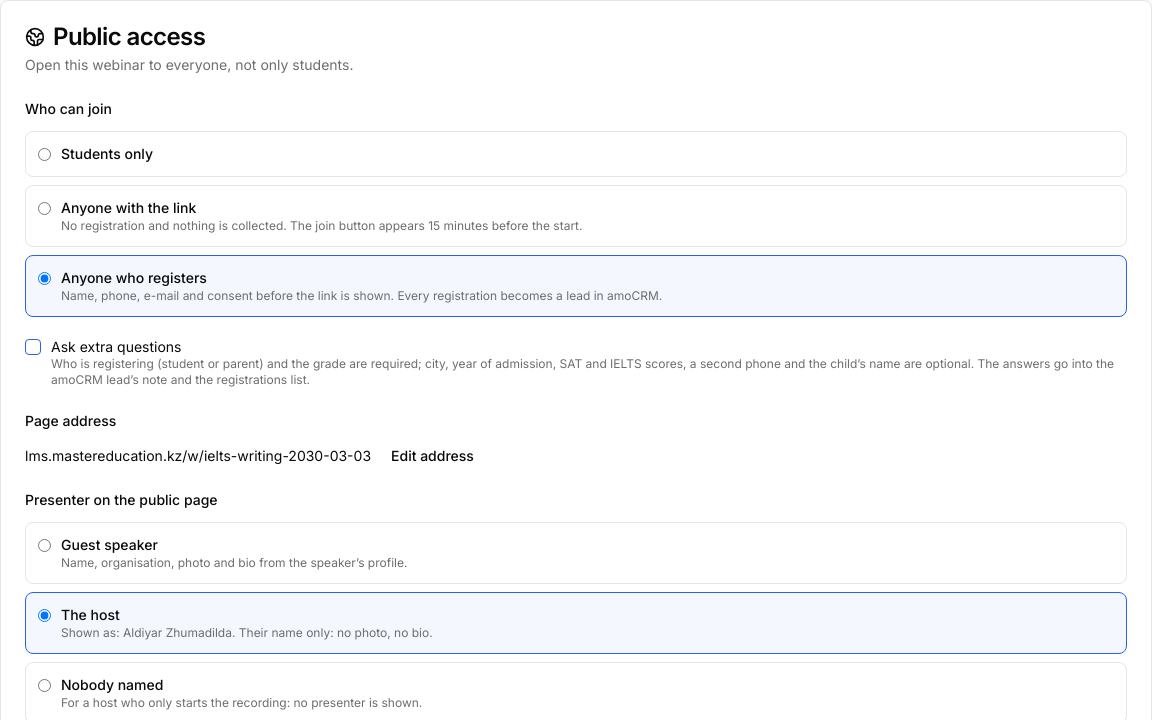
Test: closing public access › closes it when set back to students only
The width and height of the screenshot is (1152, 720).
What coordinates should you click on to do the following:
click the radio button labelled "Students only"
I would click on:
 (44, 154)
Its box is [38,148,51,161].
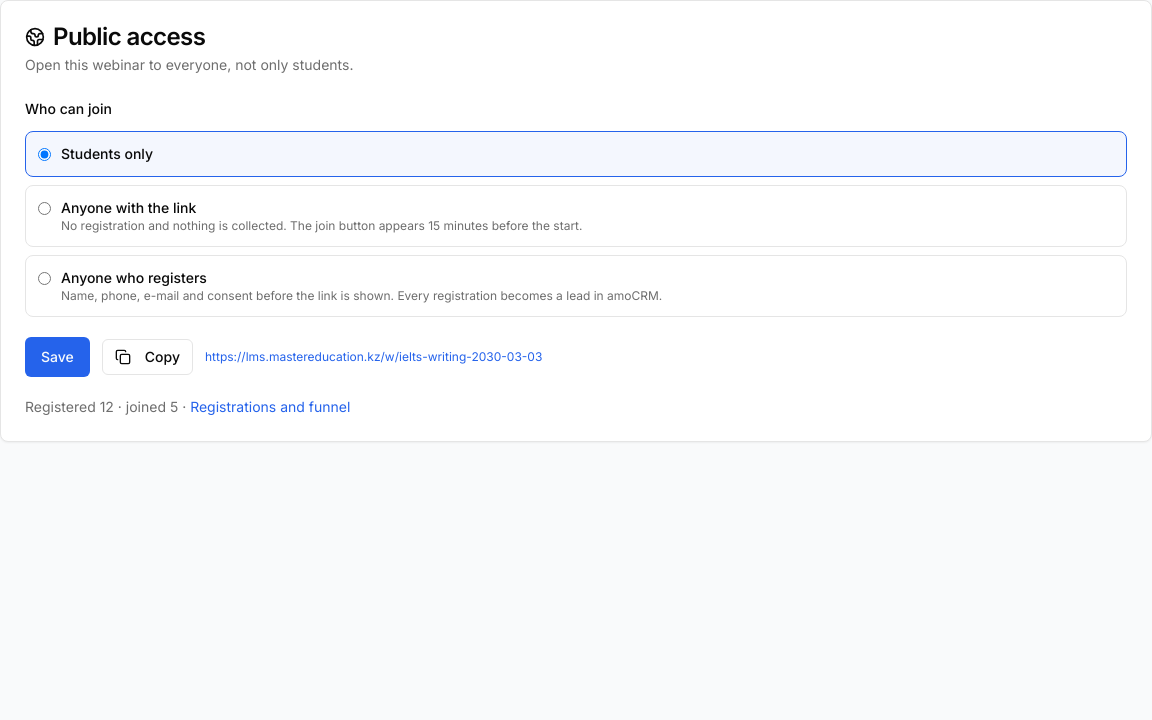
What coordinates should you click on to do the following:
click the button "Save"
I would click on:
 (57, 357)
Its box is [25,337,90,377].
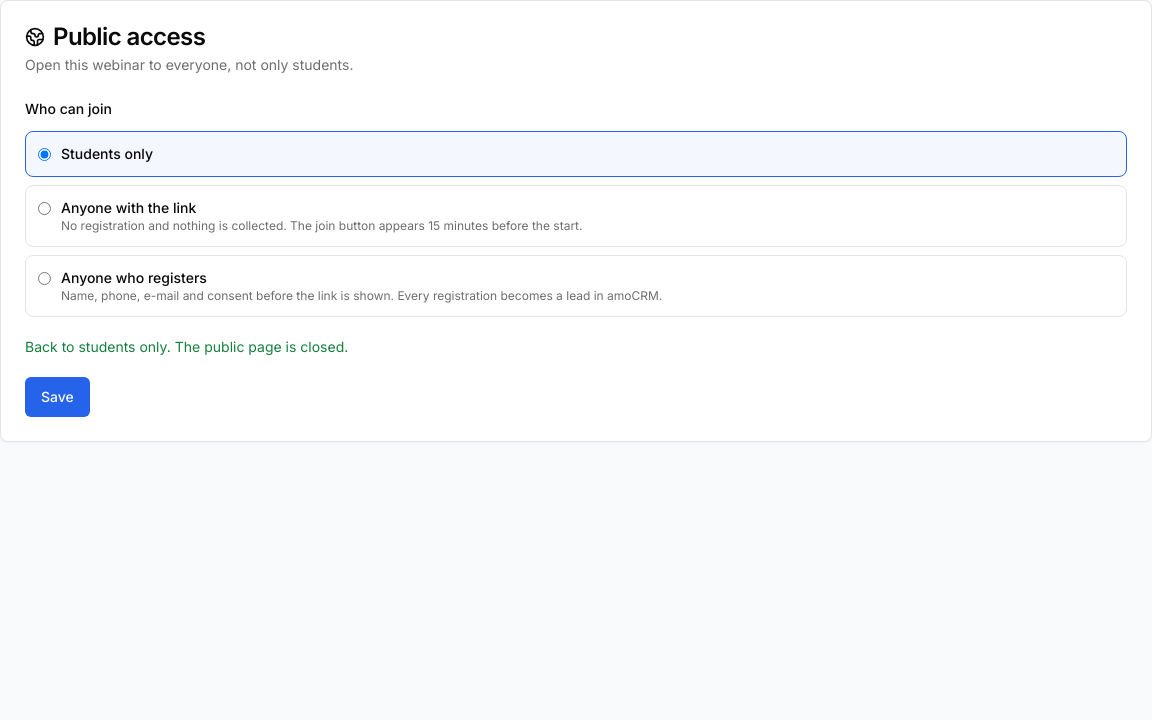
Check: the text "Back to students only." is shown, box [25,338,348,355]
